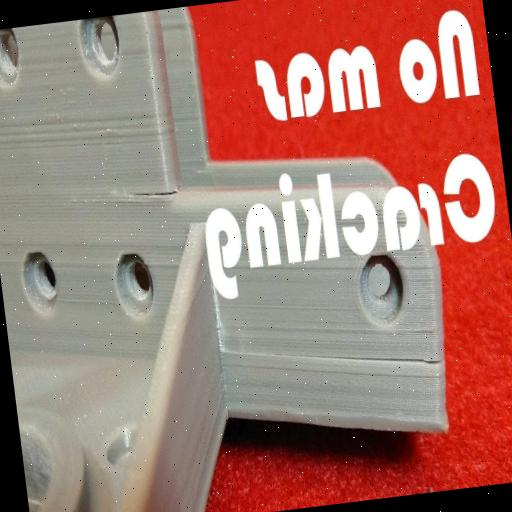cracks: (264, 337, 452, 407), (110, 164, 198, 220)
